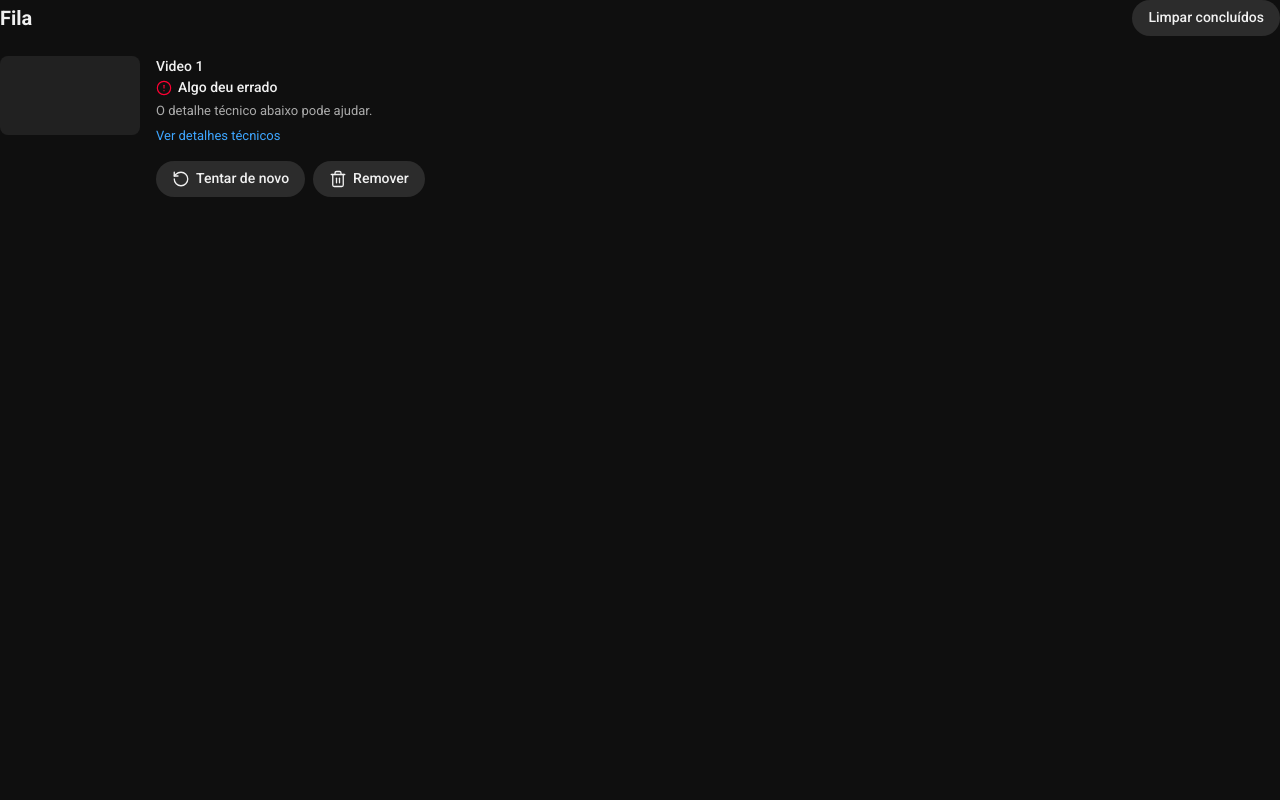
Test: technical details › shows the command with cookies and proxy masked, plus the stderr
Click the button "Ver detalhes técnicos" at (218,136), box top-left (156, 127), bottom-right (280, 145)
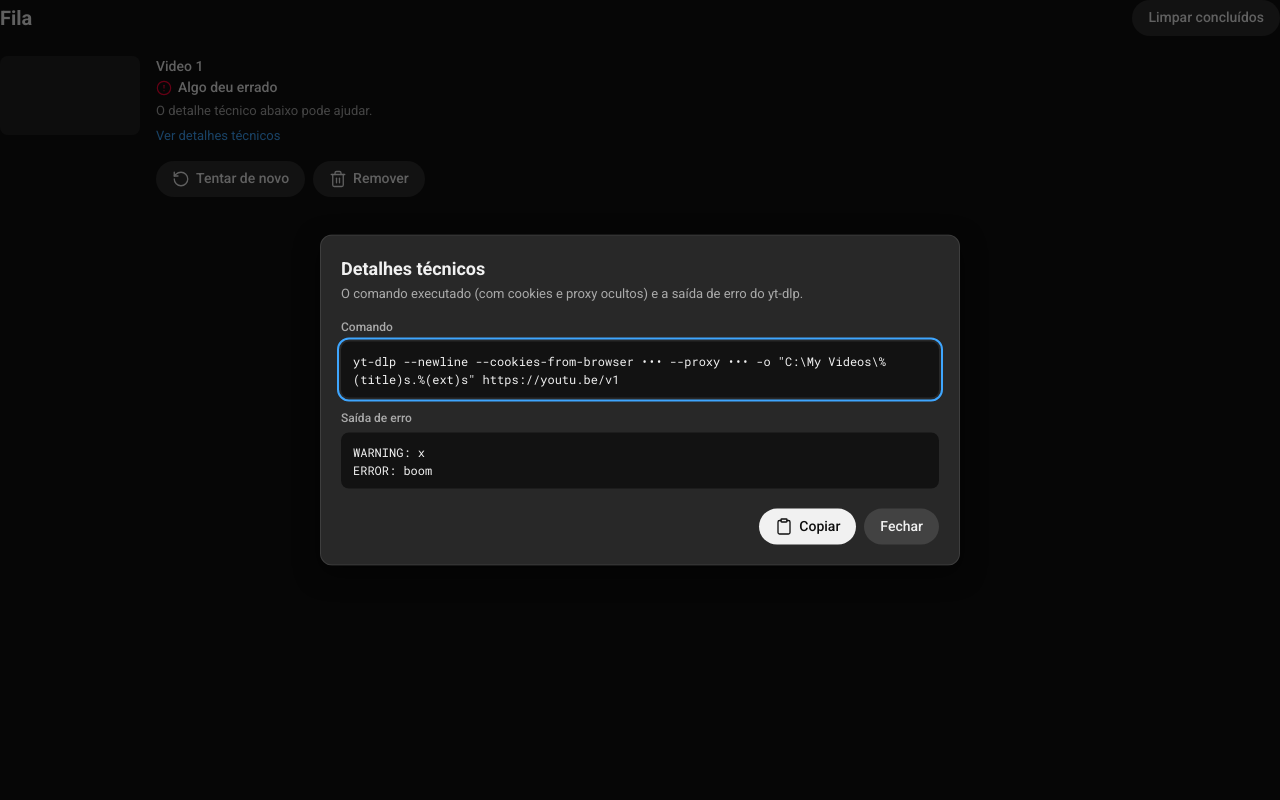
Expected: the dialog does not show "secret", top-left (320, 234), bottom-right (960, 566)
Expected: the text with test id "command" shows "yt-dlp --newline --cookies-from-browser ••• --proxy ••• -o \"C:\\My Videos\\%(title)s.%(ext)s\" https://youtu.be/v1", top-left (353, 353), bottom-right (886, 387)
Expected: the text with test id "stderr" reads "WARNING: x ERROR: boom", top-left (353, 444), bottom-right (432, 478)
